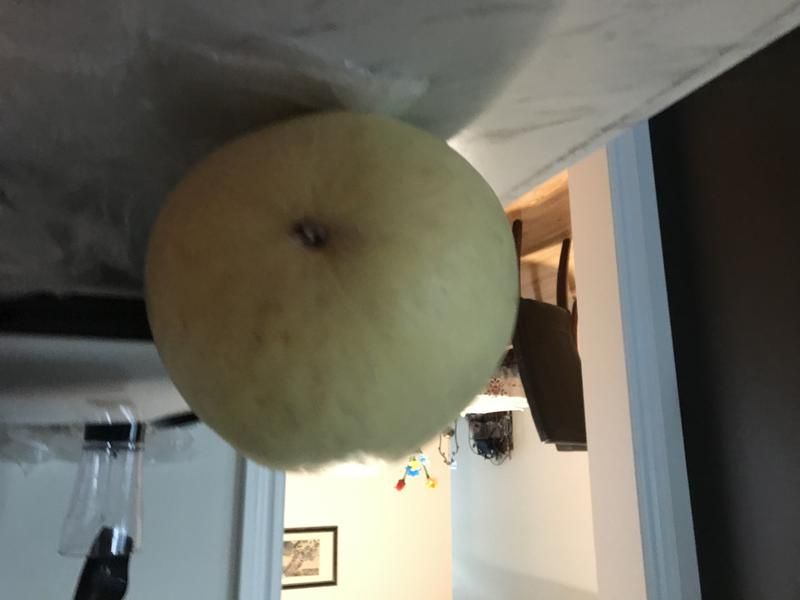honeydew: (130, 94, 536, 484)
